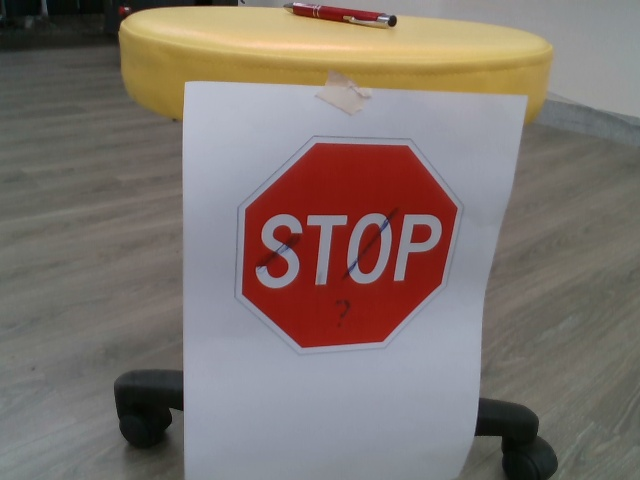stop: (235, 135, 467, 354)
